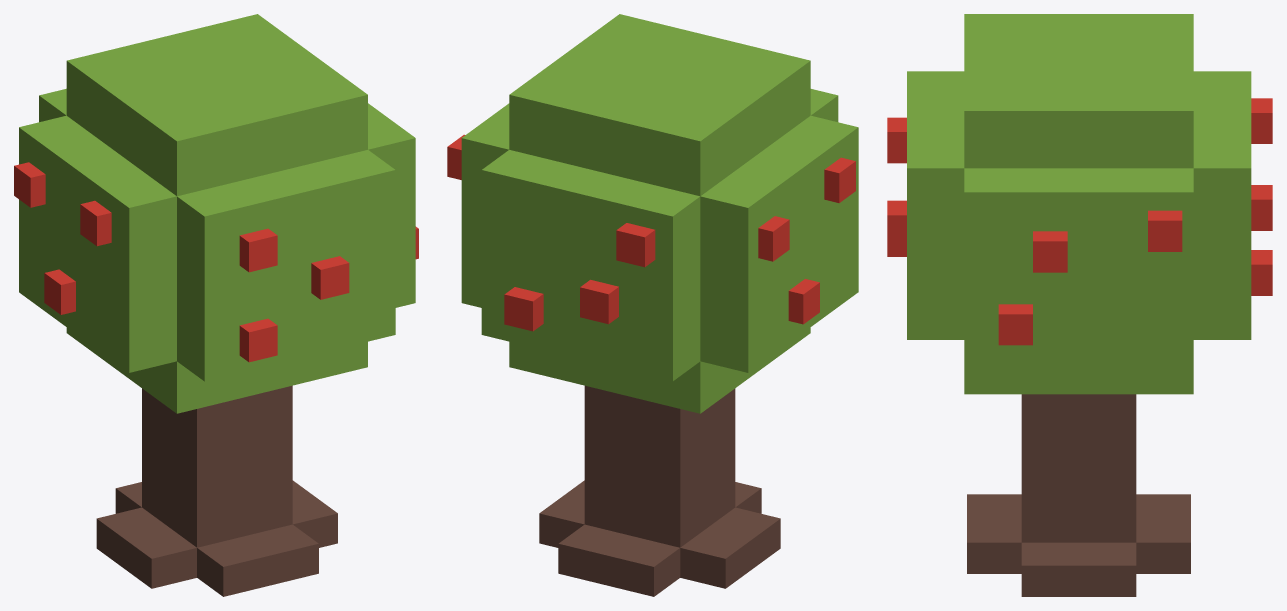
Rendered from tree.fbx.
3 views of the same model, side by side, from view 1: azimuth 30°, elevation 25°; view 2: azimuth 150°, elevation 25°; view 3: azimuth 270°, elevation 25° (orthographic). The views are drawn at different scales.
Parts seen in each view (by area): view 1: Cube; view 2: Cube; view 3: Cube.
Part boxes in pixels (bbox=[...]): Cube: bbox=[14, 14, 418, 596]; Cube: bbox=[447, 14, 858, 596]; Cube: bbox=[887, 14, 1272, 596].
Size of the model in its own units: 672 by 937 by 672.
